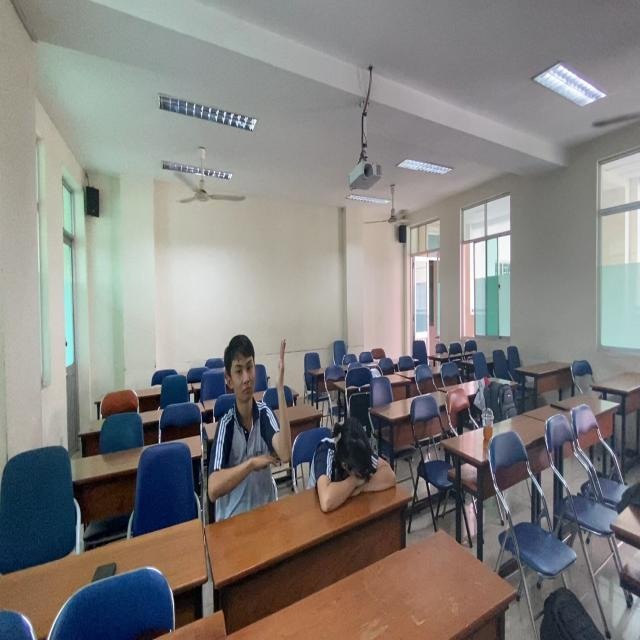raise_hand: (207, 332, 293, 511)
sleep: (314, 417, 396, 519)
